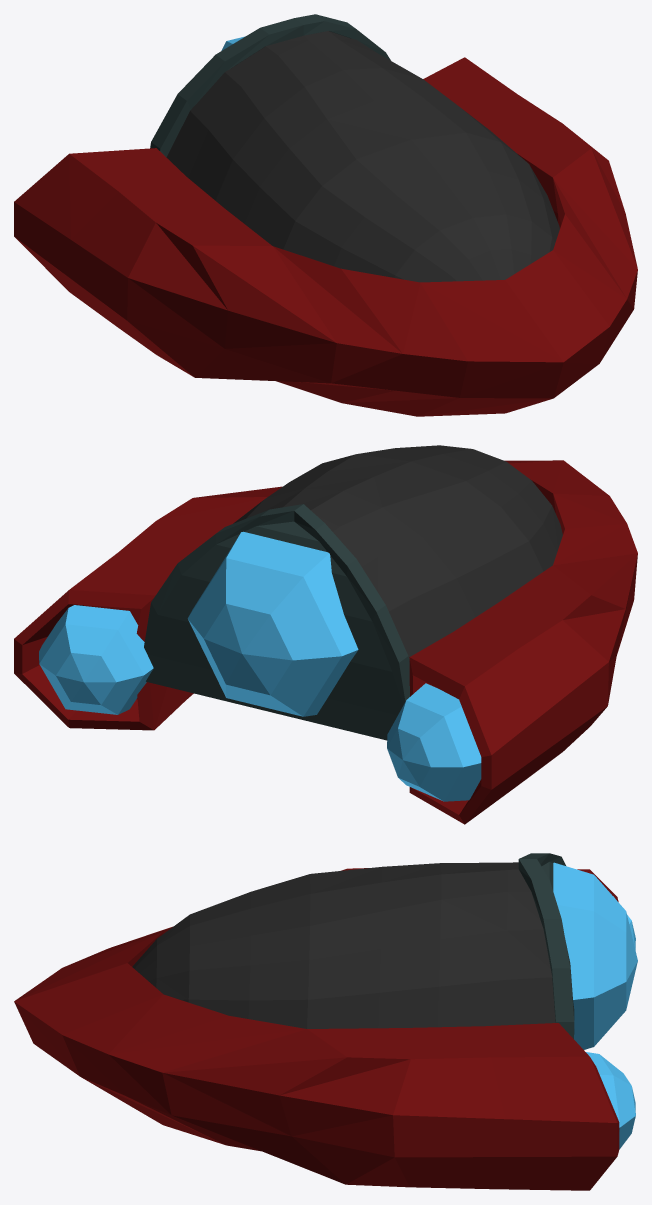
The model's file is ship2.fbx.
3 views of the same model, one above another, from view 1: azimuth 30°, elevation 25°; view 2: azimuth 150°, elevation 25°; view 3: azimuth 270°, elevation 25° (orthographic). The views are drawn at different scales.
Visible parts, largest first — view 1: shipMesh2; view 2: shipMesh2; view 3: shipMesh2.
Boxes of the visible parts, x1,y1,x2,y2 form: shipMesh2: (14, 14, 637, 416); shipMesh2: (14, 445, 637, 824); shipMesh2: (14, 853, 637, 1190).
Size of the model in its own units: 12.71 by 6.2 by 14.72.
Materials: 4 (4 with a texture image).
